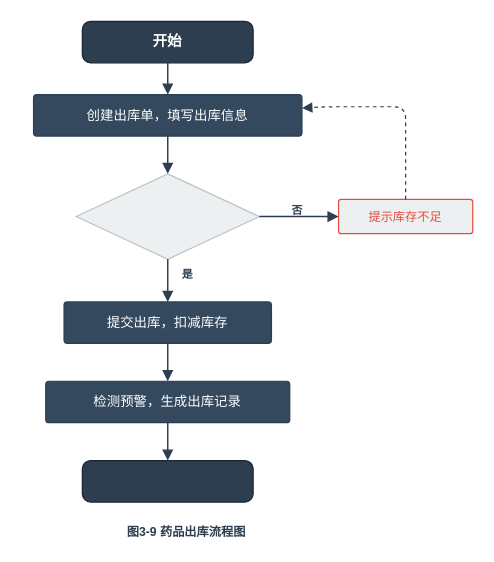
Some shapes in this 494 by 562 pixel diagram are drawn without their labels. The box of each missing label's shape, as (x1, y1, x2, y2) in pixels:
库存是否充足: (75, 173, 259, 259)
结束: (81, 459, 253, 502)
